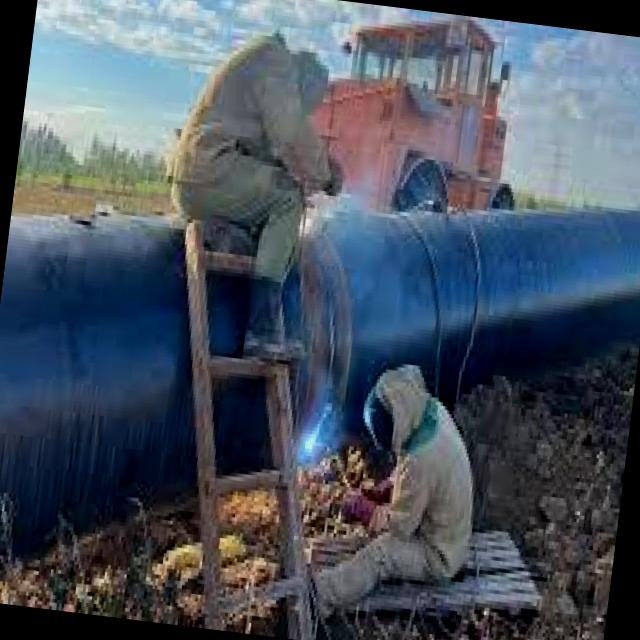gas: (300, 207, 640, 456), (0, 216, 192, 554)
